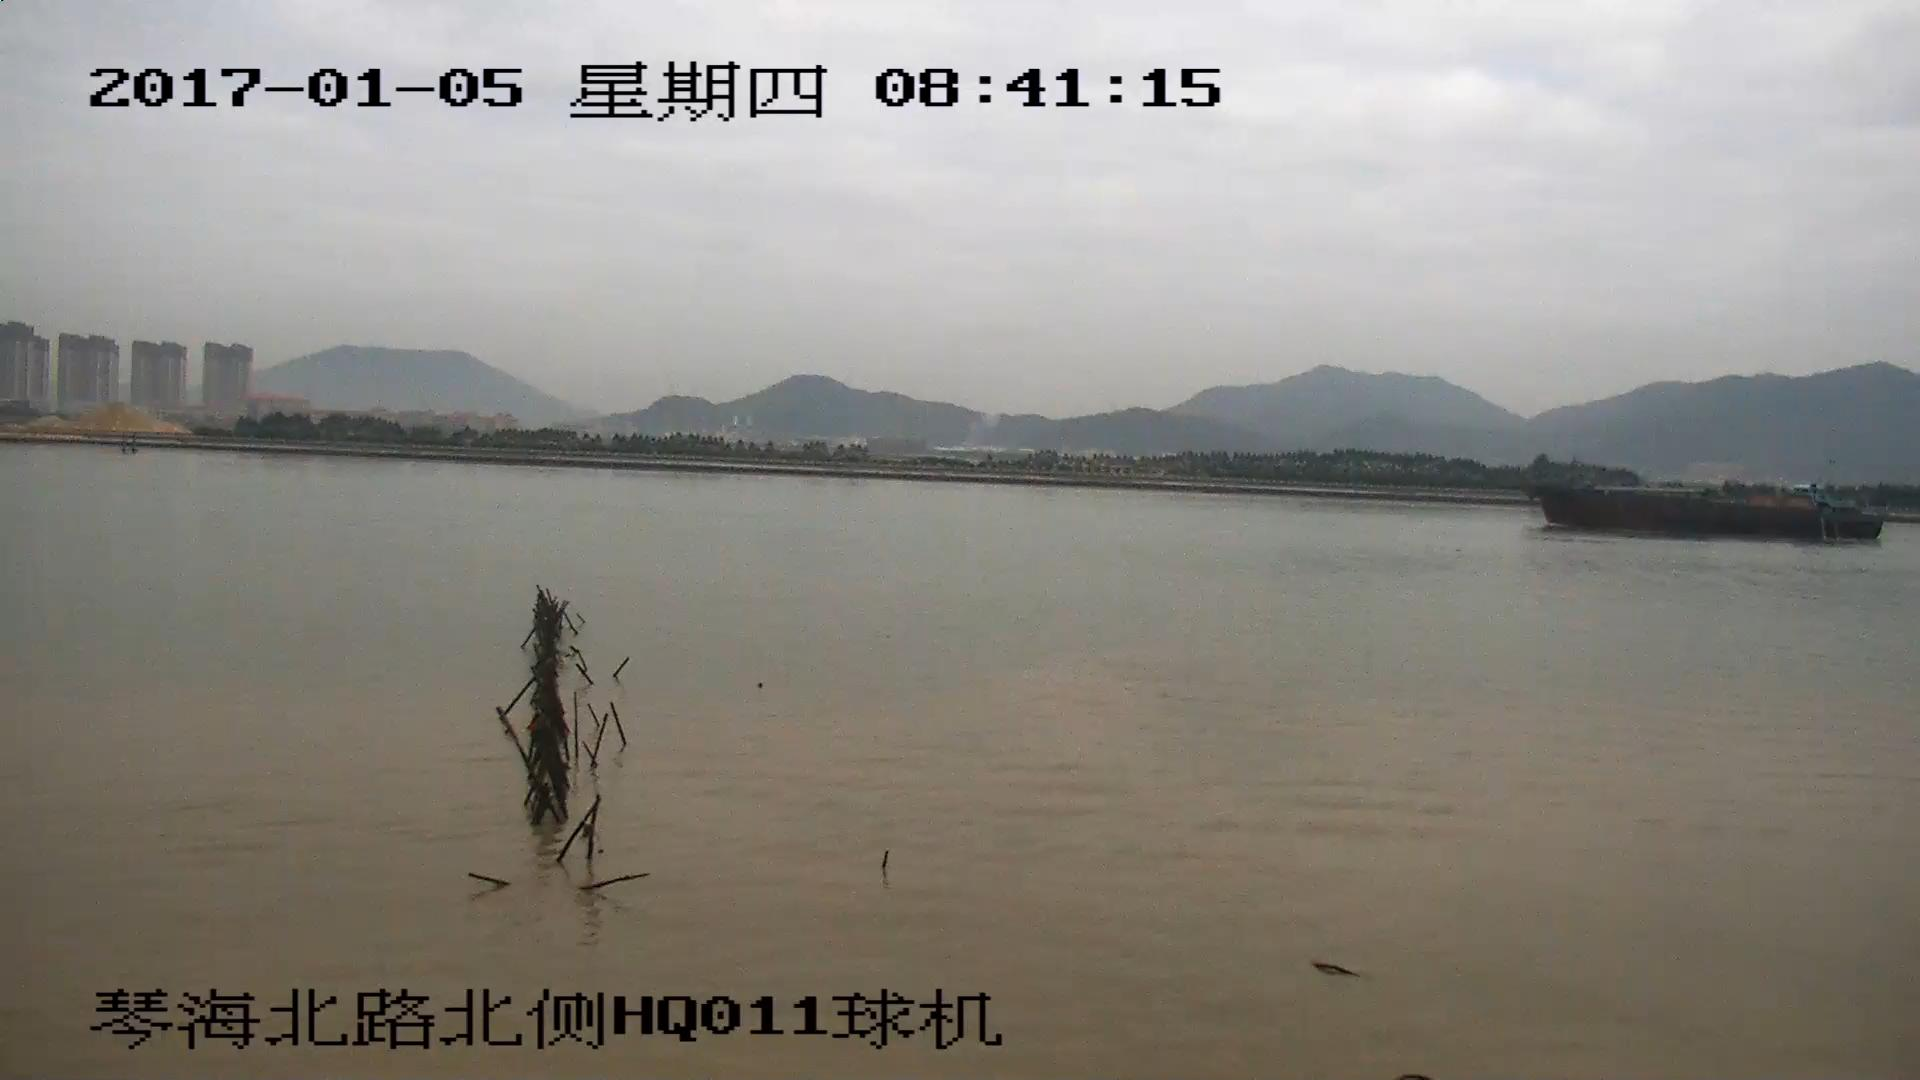bulk cargo carrier: (1525, 469, 1885, 535)
